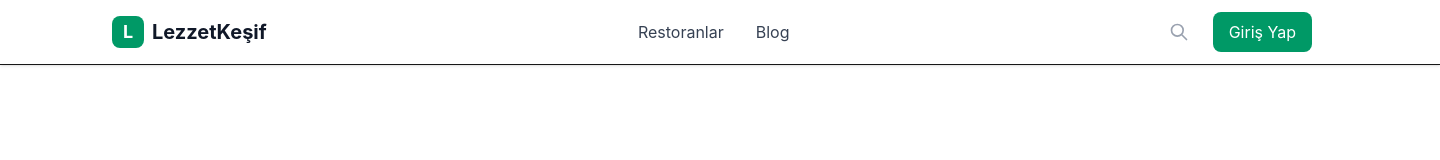
Test case: Header › opens search modal when search button is clicked
Click the 1st button. click: (1179, 32)
box: [1161,14,1197,50]
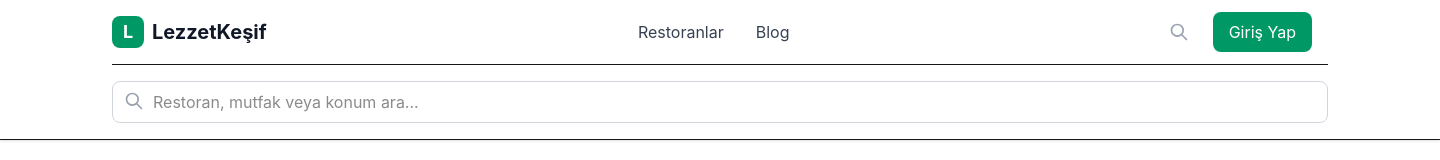
Expected: the field with placeholder "Restoran, mutfak veya konum ara..." is shown, [112,81,1328,123]
